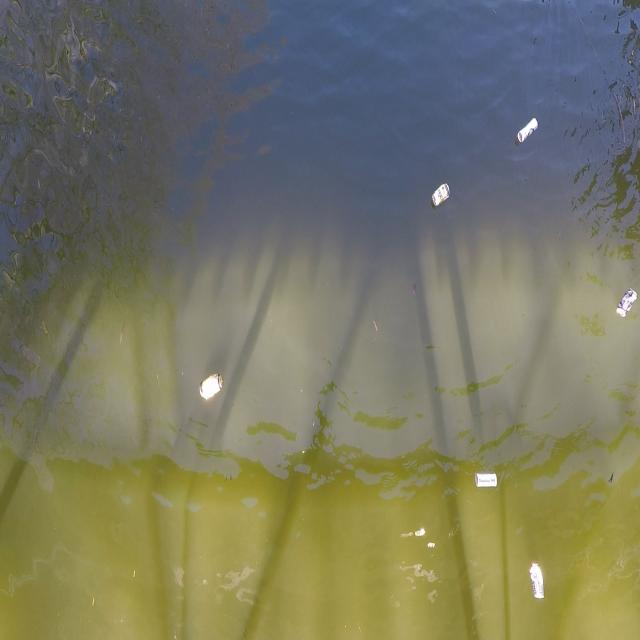Non plastique: (195, 367, 228, 408), (511, 115, 545, 152), (612, 279, 639, 325), (526, 555, 550, 605), (470, 467, 504, 495), (430, 182, 452, 212)
